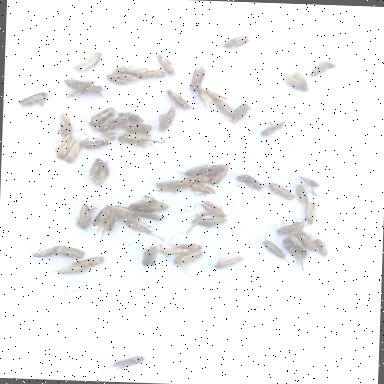pbw: (172, 246, 212, 278), (62, 77, 108, 101), (260, 232, 292, 264), (164, 82, 200, 110), (13, 89, 55, 113), (216, 25, 256, 49), (192, 86, 230, 110), (207, 158, 238, 186), (29, 240, 58, 269), (98, 106, 130, 132), (112, 204, 148, 226), (120, 219, 162, 237), (280, 67, 310, 92), (74, 201, 98, 232), (74, 48, 104, 72), (174, 162, 214, 180), (71, 246, 105, 267), (49, 240, 86, 259), (180, 64, 206, 91), (83, 106, 116, 127), (92, 203, 112, 236), (78, 134, 112, 153), (197, 200, 231, 219), (281, 236, 309, 259), (157, 98, 176, 131), (154, 52, 180, 76), (154, 178, 188, 196), (266, 180, 296, 200), (53, 134, 76, 160), (130, 64, 166, 80), (236, 173, 266, 191), (310, 57, 338, 76), (259, 118, 287, 137), (294, 230, 319, 251), (194, 162, 226, 178), (188, 182, 220, 198), (212, 254, 244, 270), (276, 219, 306, 236), (116, 132, 152, 146), (228, 102, 248, 127), (298, 200, 317, 226), (312, 234, 328, 262), (92, 160, 108, 188), (128, 195, 154, 212), (106, 72, 138, 85), (118, 120, 152, 132), (137, 200, 171, 212), (114, 65, 150, 76), (57, 112, 73, 136), (196, 216, 228, 228), (134, 210, 168, 221), (158, 246, 189, 258), (140, 244, 156, 266), (169, 242, 203, 252), (54, 264, 88, 274), (116, 110, 144, 122), (65, 141, 80, 163), (214, 98, 232, 116), (294, 182, 308, 204), (296, 175, 320, 187), (88, 158, 102, 178), (181, 174, 210, 182)
